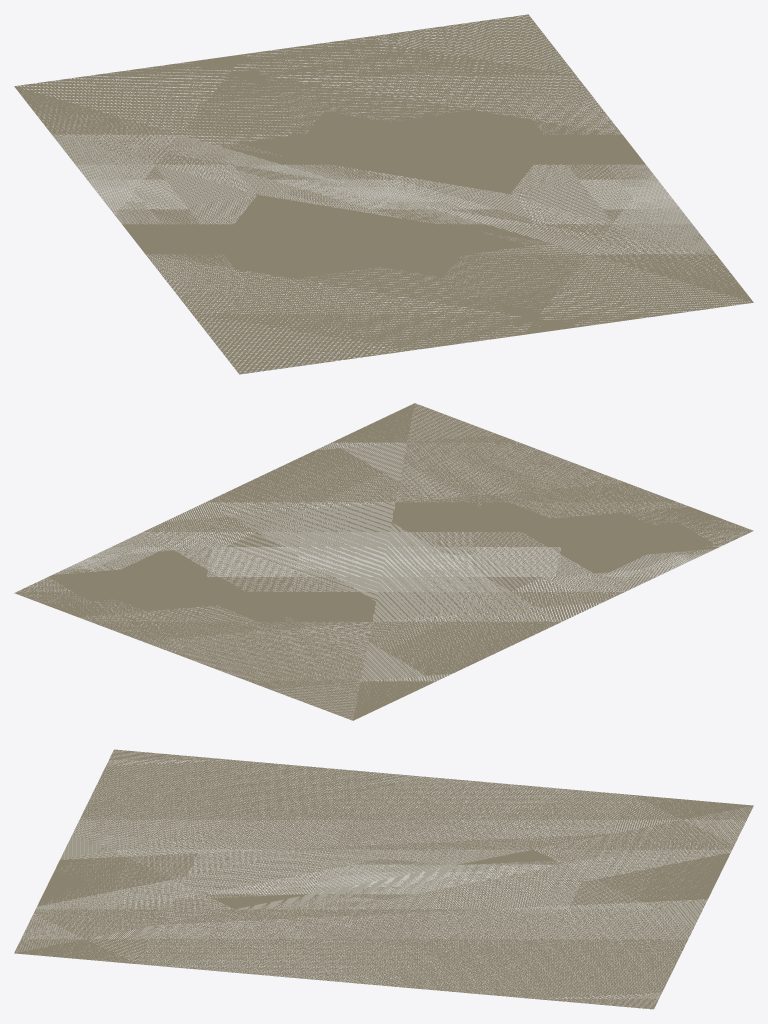
Rendered from 大本钟149.dae.
3 renders of one model, top to bottom at view 1: azimuth 30°, elevation 25°; view 2: azimuth 150°, elevation 25°; view 3: azimuth 270°, elevation 25°, orthographic. The views are drawn at different scales.
Parts seen in each view (by area): view 1: SketchUp; view 2: SketchUp; view 3: SketchUp.
Part boxes in pixels (x1=…): SketchUp: x1=14, y1=14, x2=753, y2=374; SketchUp: x1=14, y1=403, x2=753, y2=720; SketchUp: x1=14, y1=749, x2=753, y2=1009.
Bounding box in the file's own units: 37.61 × 45.23 × 0.
